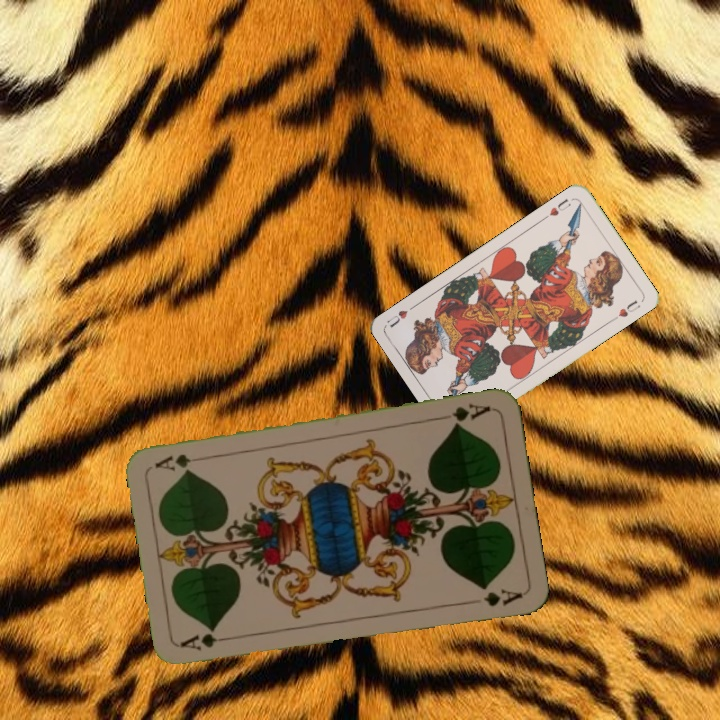GA: (177, 629, 236, 654), (448, 399, 493, 429)
HU: (545, 194, 573, 219)
